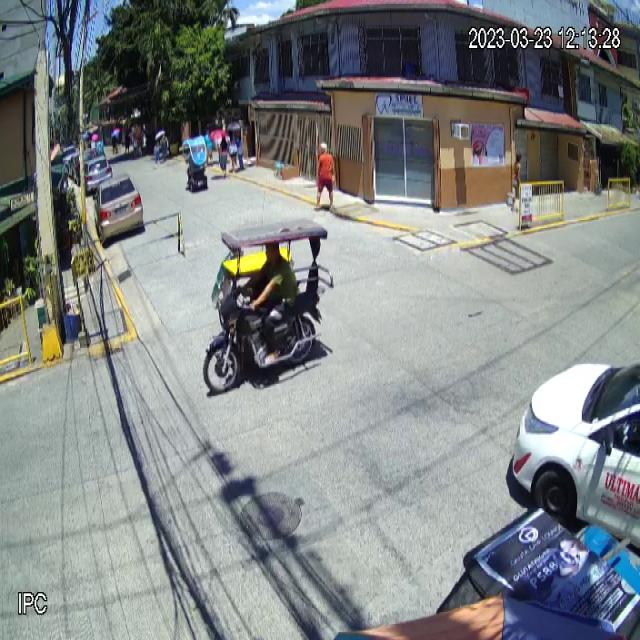Tricycle: (202, 218, 334, 395)
